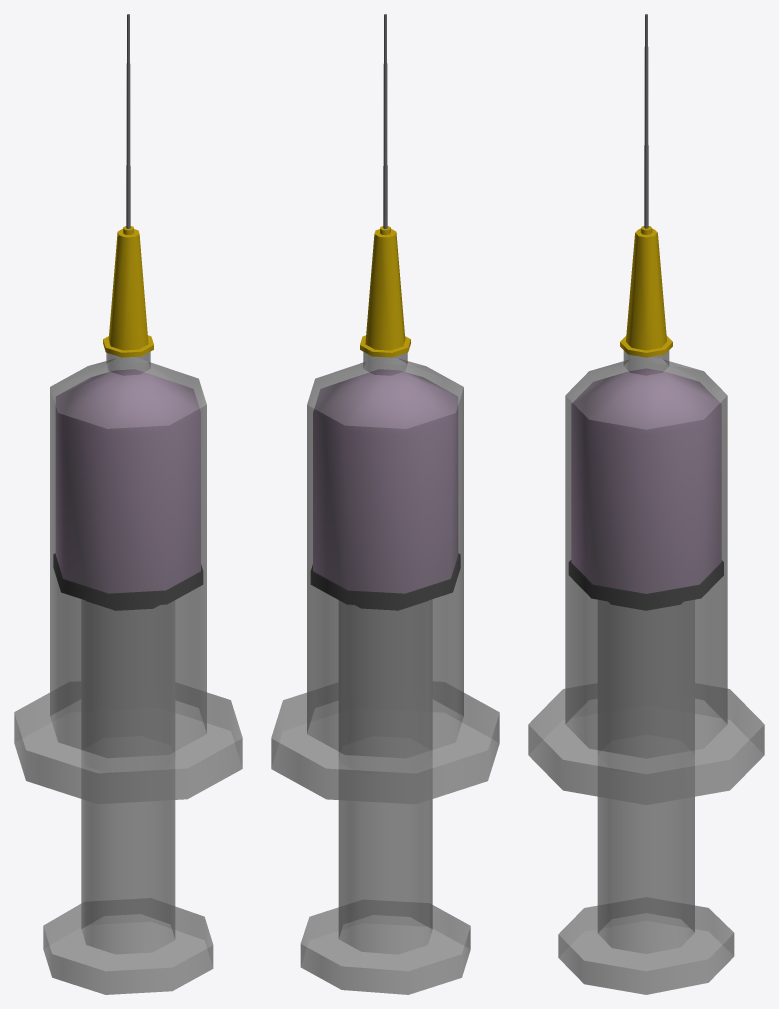
Rendered from syringe.fbx.
3 renders of one model, left to right at view 1: azimuth 30°, elevation 25°; view 2: azimuth 150°, elevation 25°; view 3: azimuth 270°, elevation 25°, orthographic.
Parts seen in each view (by area): view 1: Cylinder001, Cylinder002, Cylinder003, Cylinder004; view 2: Cylinder001, Cylinder002, Cylinder003, Cylinder004; view 3: Cylinder001, Cylinder002, Cylinder003, Cylinder004.
Part boxes in pixels (x1,y1,x2,y2): Cylinder001: (14, 14, 242, 804); Cylinder002: (43, 553, 213, 994); Cylinder003: (55, 369, 200, 593); Cylinder004: (103, 226, 153, 357); Cylinder001: (271, 14, 499, 804); Cylinder002: (300, 553, 470, 994); Cylinder003: (313, 369, 458, 593); Cylinder004: (360, 226, 410, 357); Cylinder001: (528, 14, 764, 804); Cylinder002: (558, 560, 734, 994); Cylinder003: (571, 368, 721, 593); Cylinder004: (620, 226, 672, 357).
Bounding box in the file's own units: 24.62 × 108 × 24.62.
